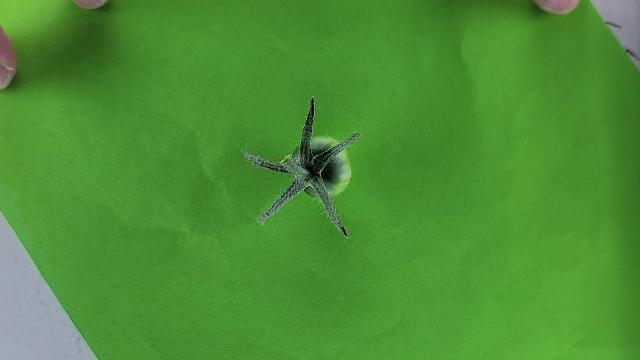Fruit Maturation: (302, 136, 352, 199)
